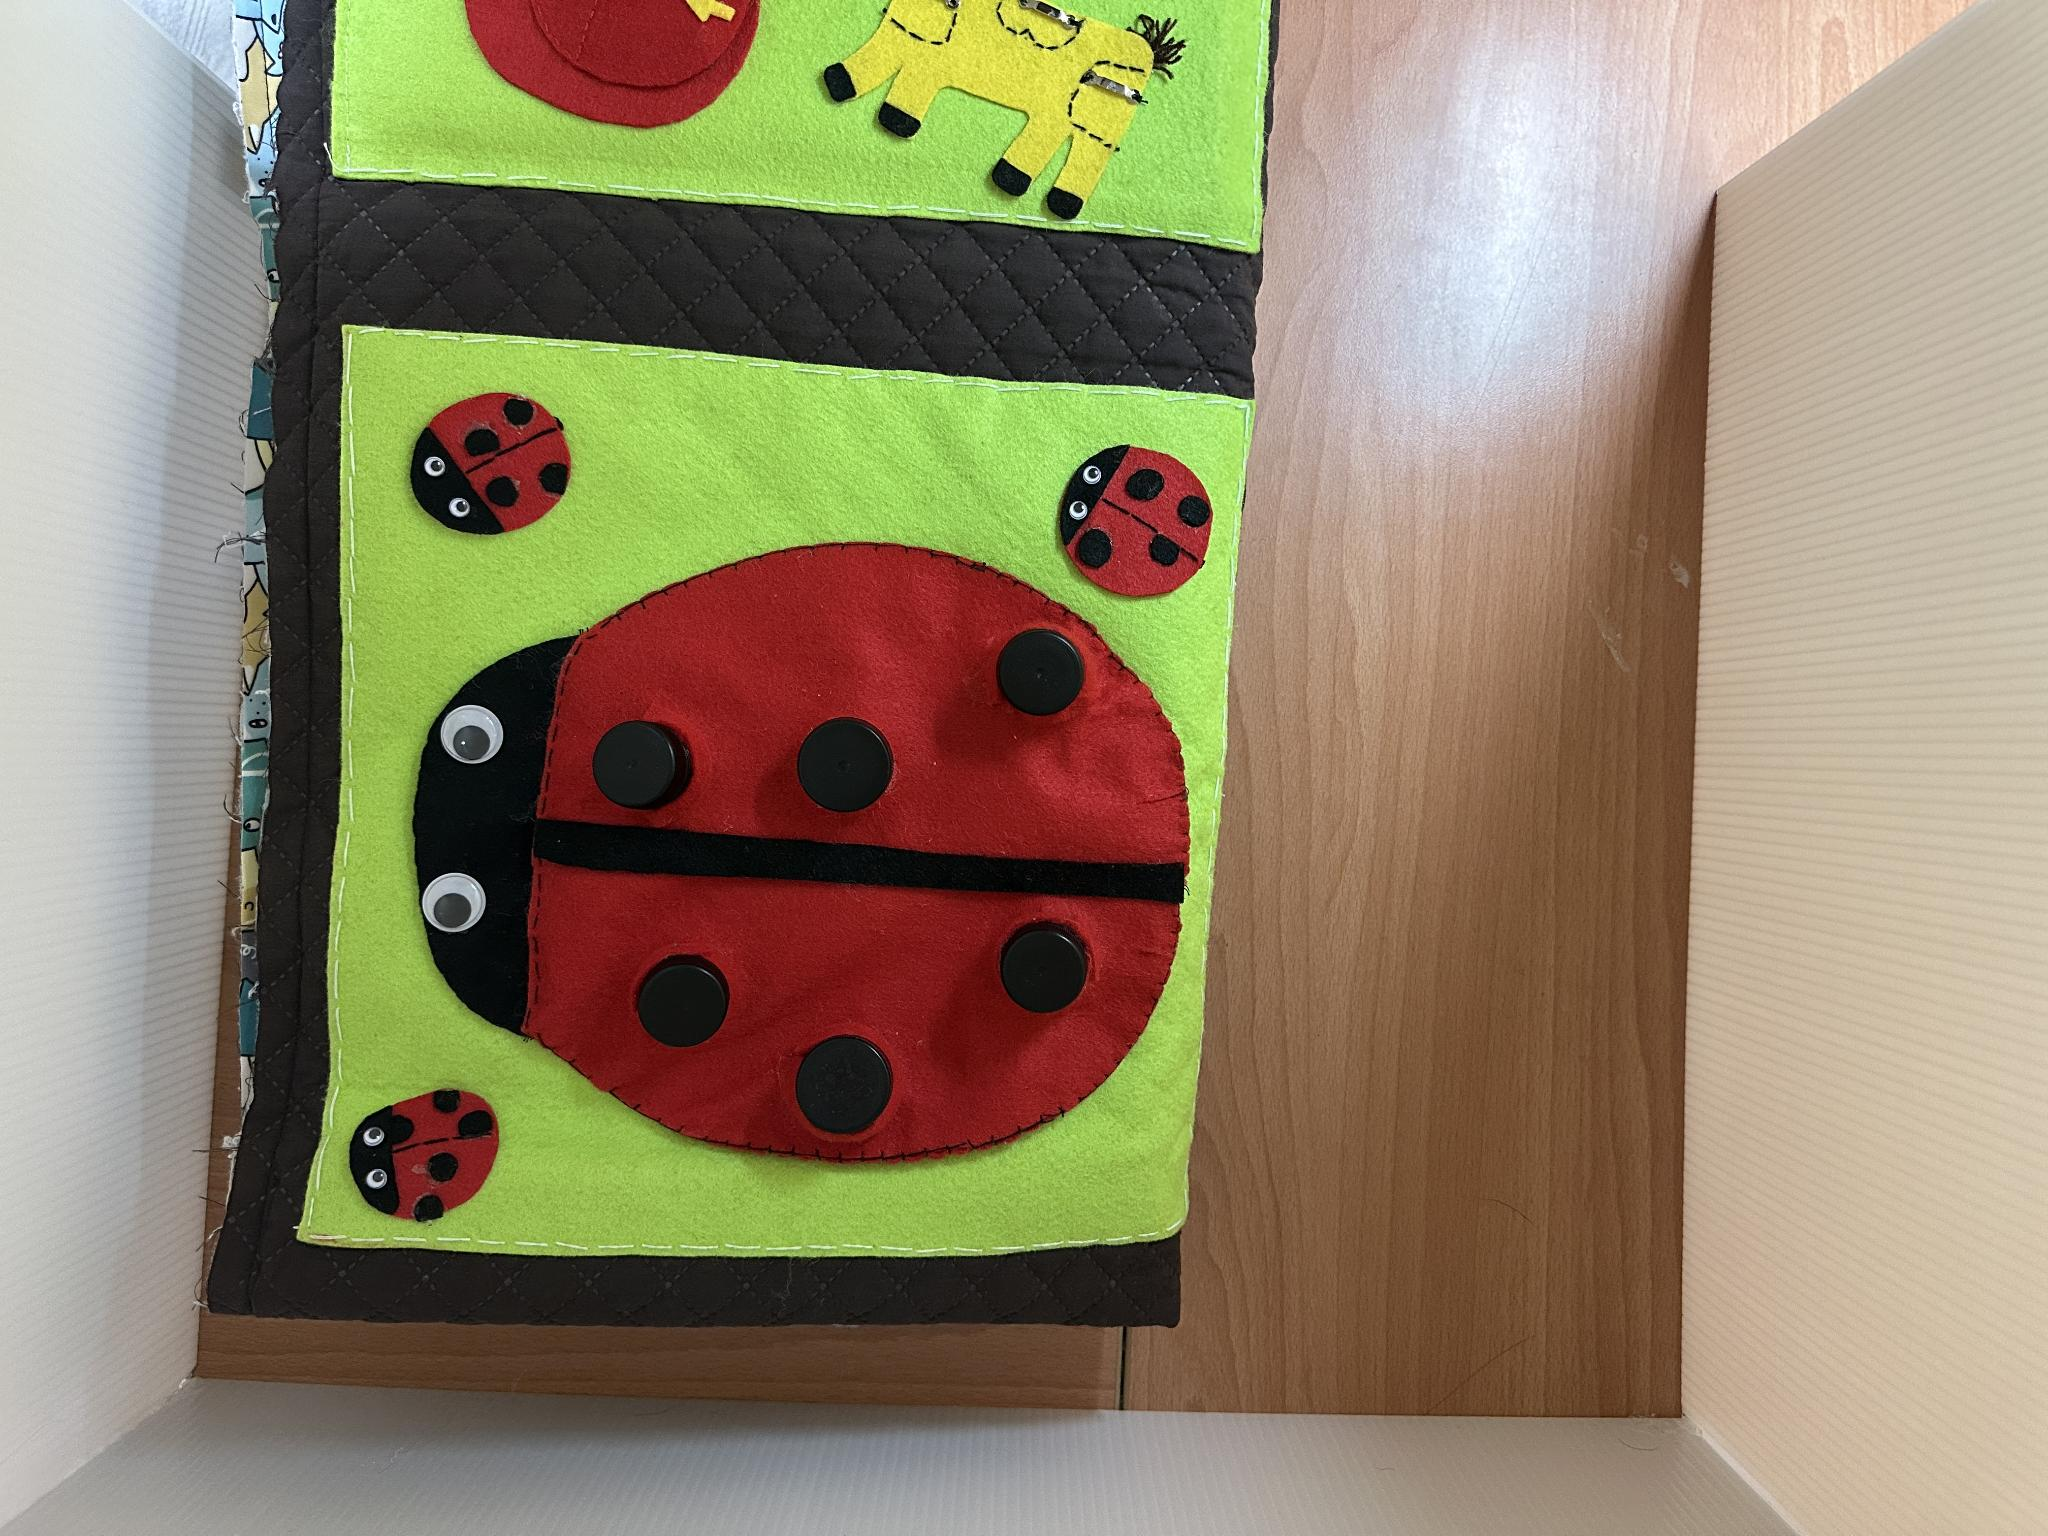cap_ok: (769, 1002, 916, 1157), (606, 931, 763, 1071), (577, 691, 726, 831), (780, 699, 924, 836), (972, 895, 1118, 1031), (963, 613, 1106, 731)
